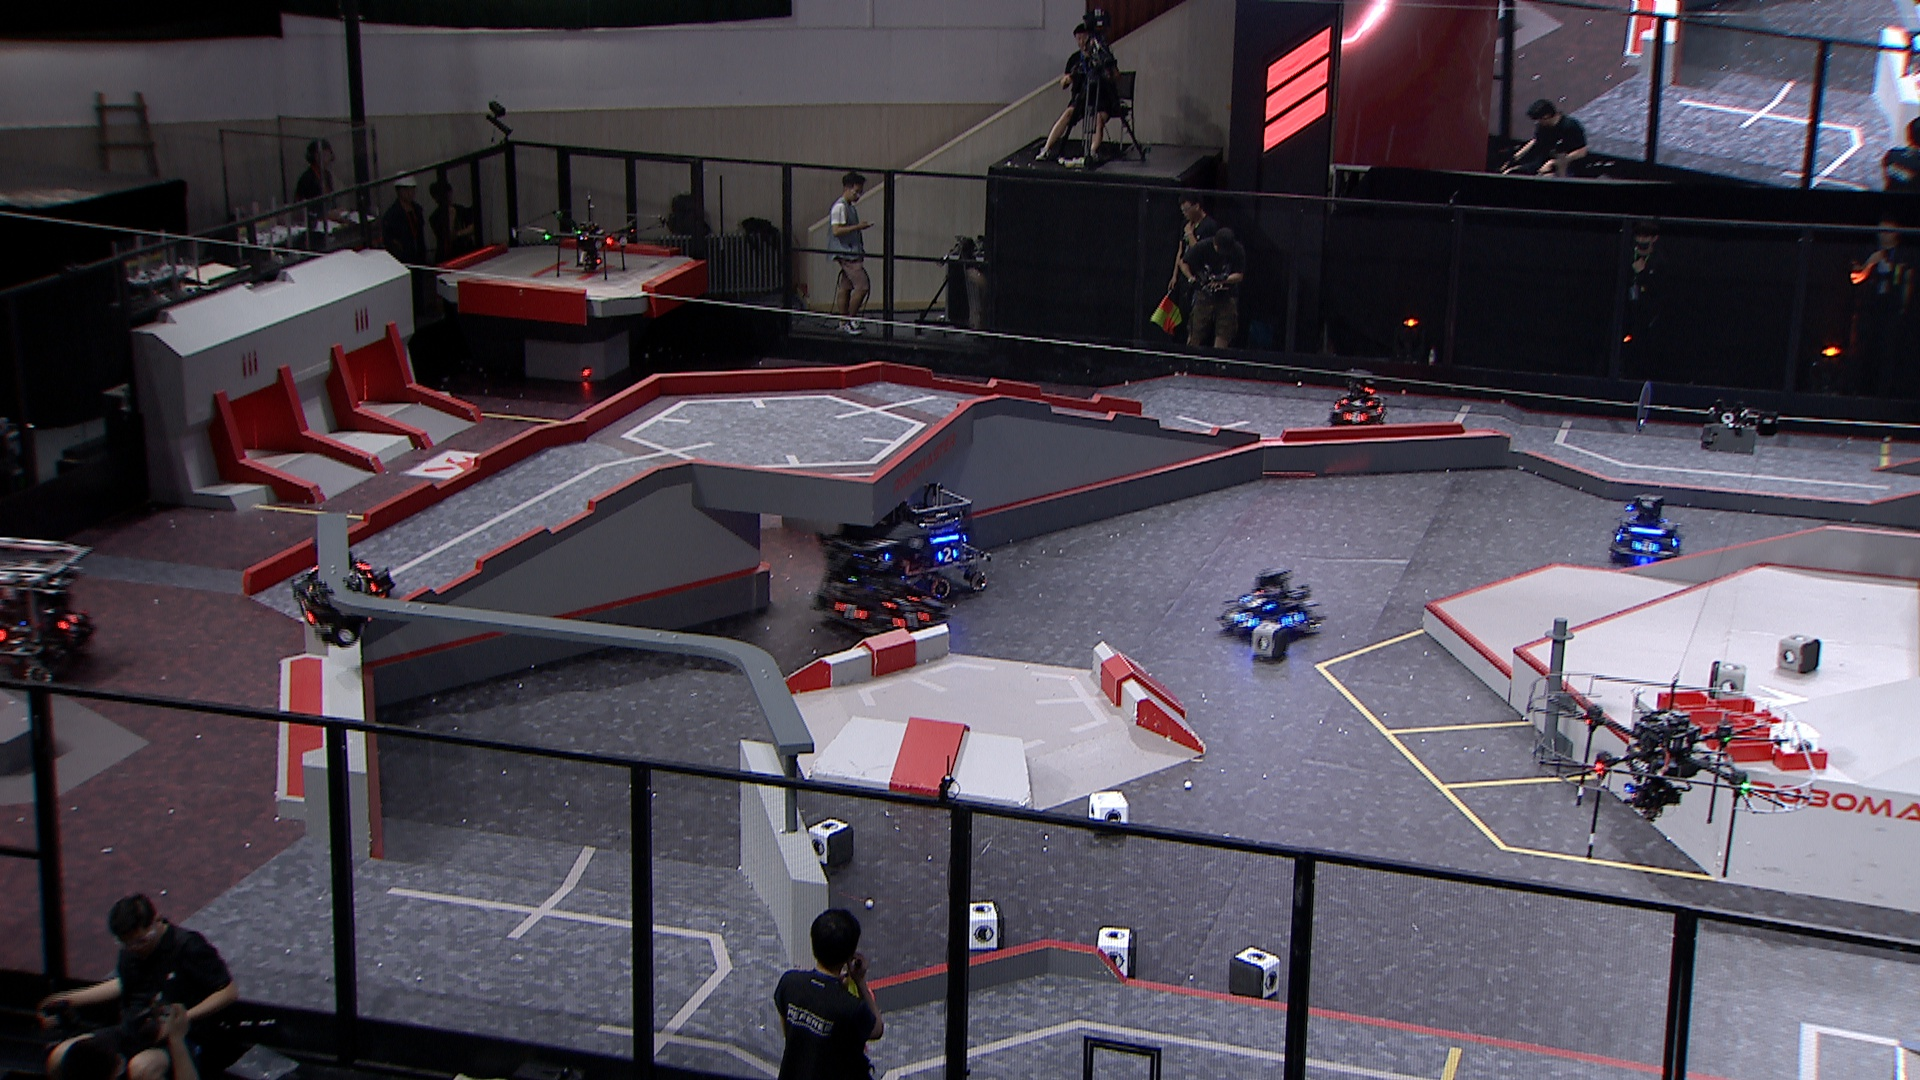armor: (289, 589, 314, 618), (895, 611, 927, 632), (57, 611, 80, 636), (837, 603, 864, 624), (882, 593, 916, 609), (1233, 613, 1261, 632), (1633, 537, 1656, 555), (1242, 593, 1269, 609), (1280, 613, 1304, 629), (1340, 409, 1367, 422), (1340, 396, 1371, 406), (935, 549, 957, 562)
car: (808, 527, 949, 642), (866, 485, 992, 603), (1215, 567, 1319, 644), (1607, 491, 1681, 564), (1327, 367, 1393, 431)
watcher: (286, 553, 386, 646)
